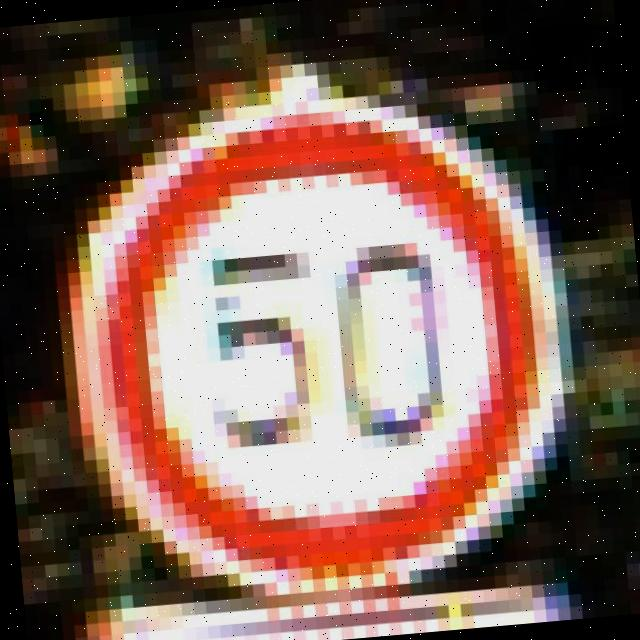Ograniczenie predkosci do 50: (73, 93, 563, 606)
